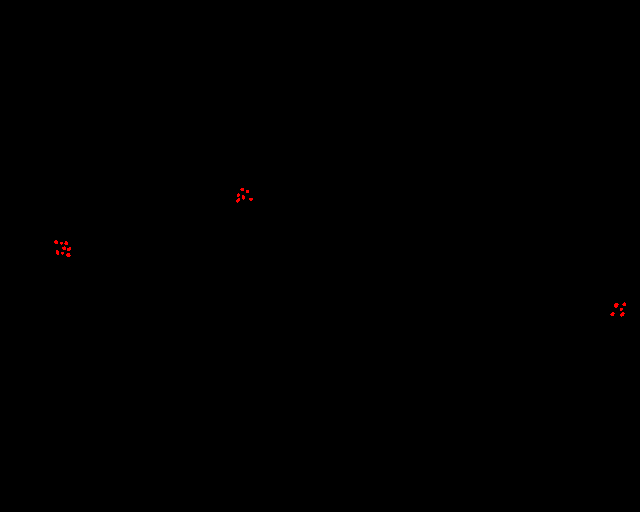Target: (614, 303, 619, 308), (620, 312, 625, 317), (236, 198, 240, 203), (66, 253, 71, 257), (610, 312, 615, 316), (54, 240, 58, 244), (64, 241, 68, 245), (62, 246, 66, 250), (67, 247, 71, 251), (622, 302, 626, 306), (242, 195, 245, 200), (56, 250, 59, 255), (240, 188, 244, 191), (237, 193, 240, 197), (249, 198, 253, 201), (246, 190, 249, 193), (60, 242, 63, 245), (61, 252, 64, 255), (620, 308, 623, 311)
